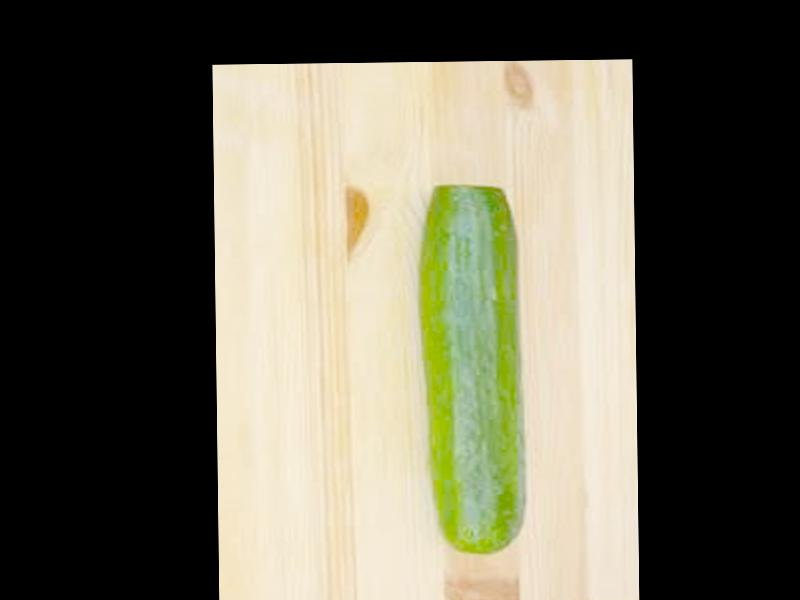Cucumber: (421, 186, 525, 555)
